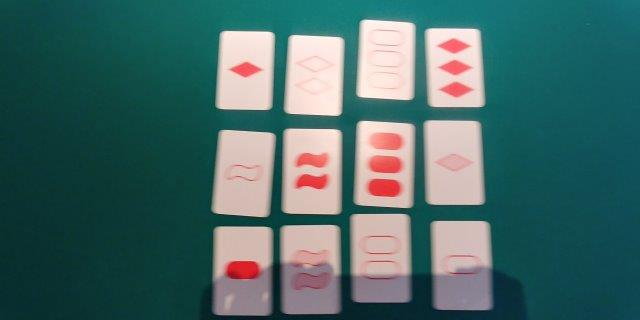1EP: (435, 225, 488, 310)
1EW: (221, 133, 268, 213)
1FD: (222, 33, 269, 108)
1FP: (216, 231, 268, 313)
1HD: (428, 123, 478, 201)
2ED: (291, 39, 339, 113)
2EP: (354, 216, 408, 300)
2FW: (285, 132, 338, 212)
2HW: (284, 229, 337, 312)
3EP: (364, 24, 409, 95)
3FD: (430, 29, 478, 105)
3FP: (359, 124, 410, 203)
